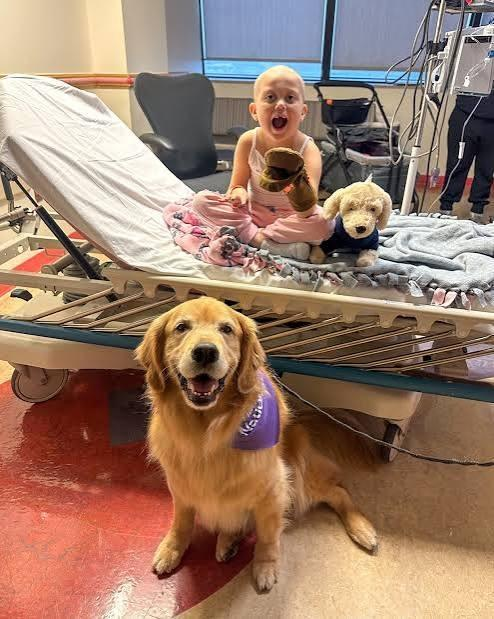adult_dog: (133, 296, 384, 596)
non-dog: (165, 67, 334, 269), (423, 1, 494, 223)
